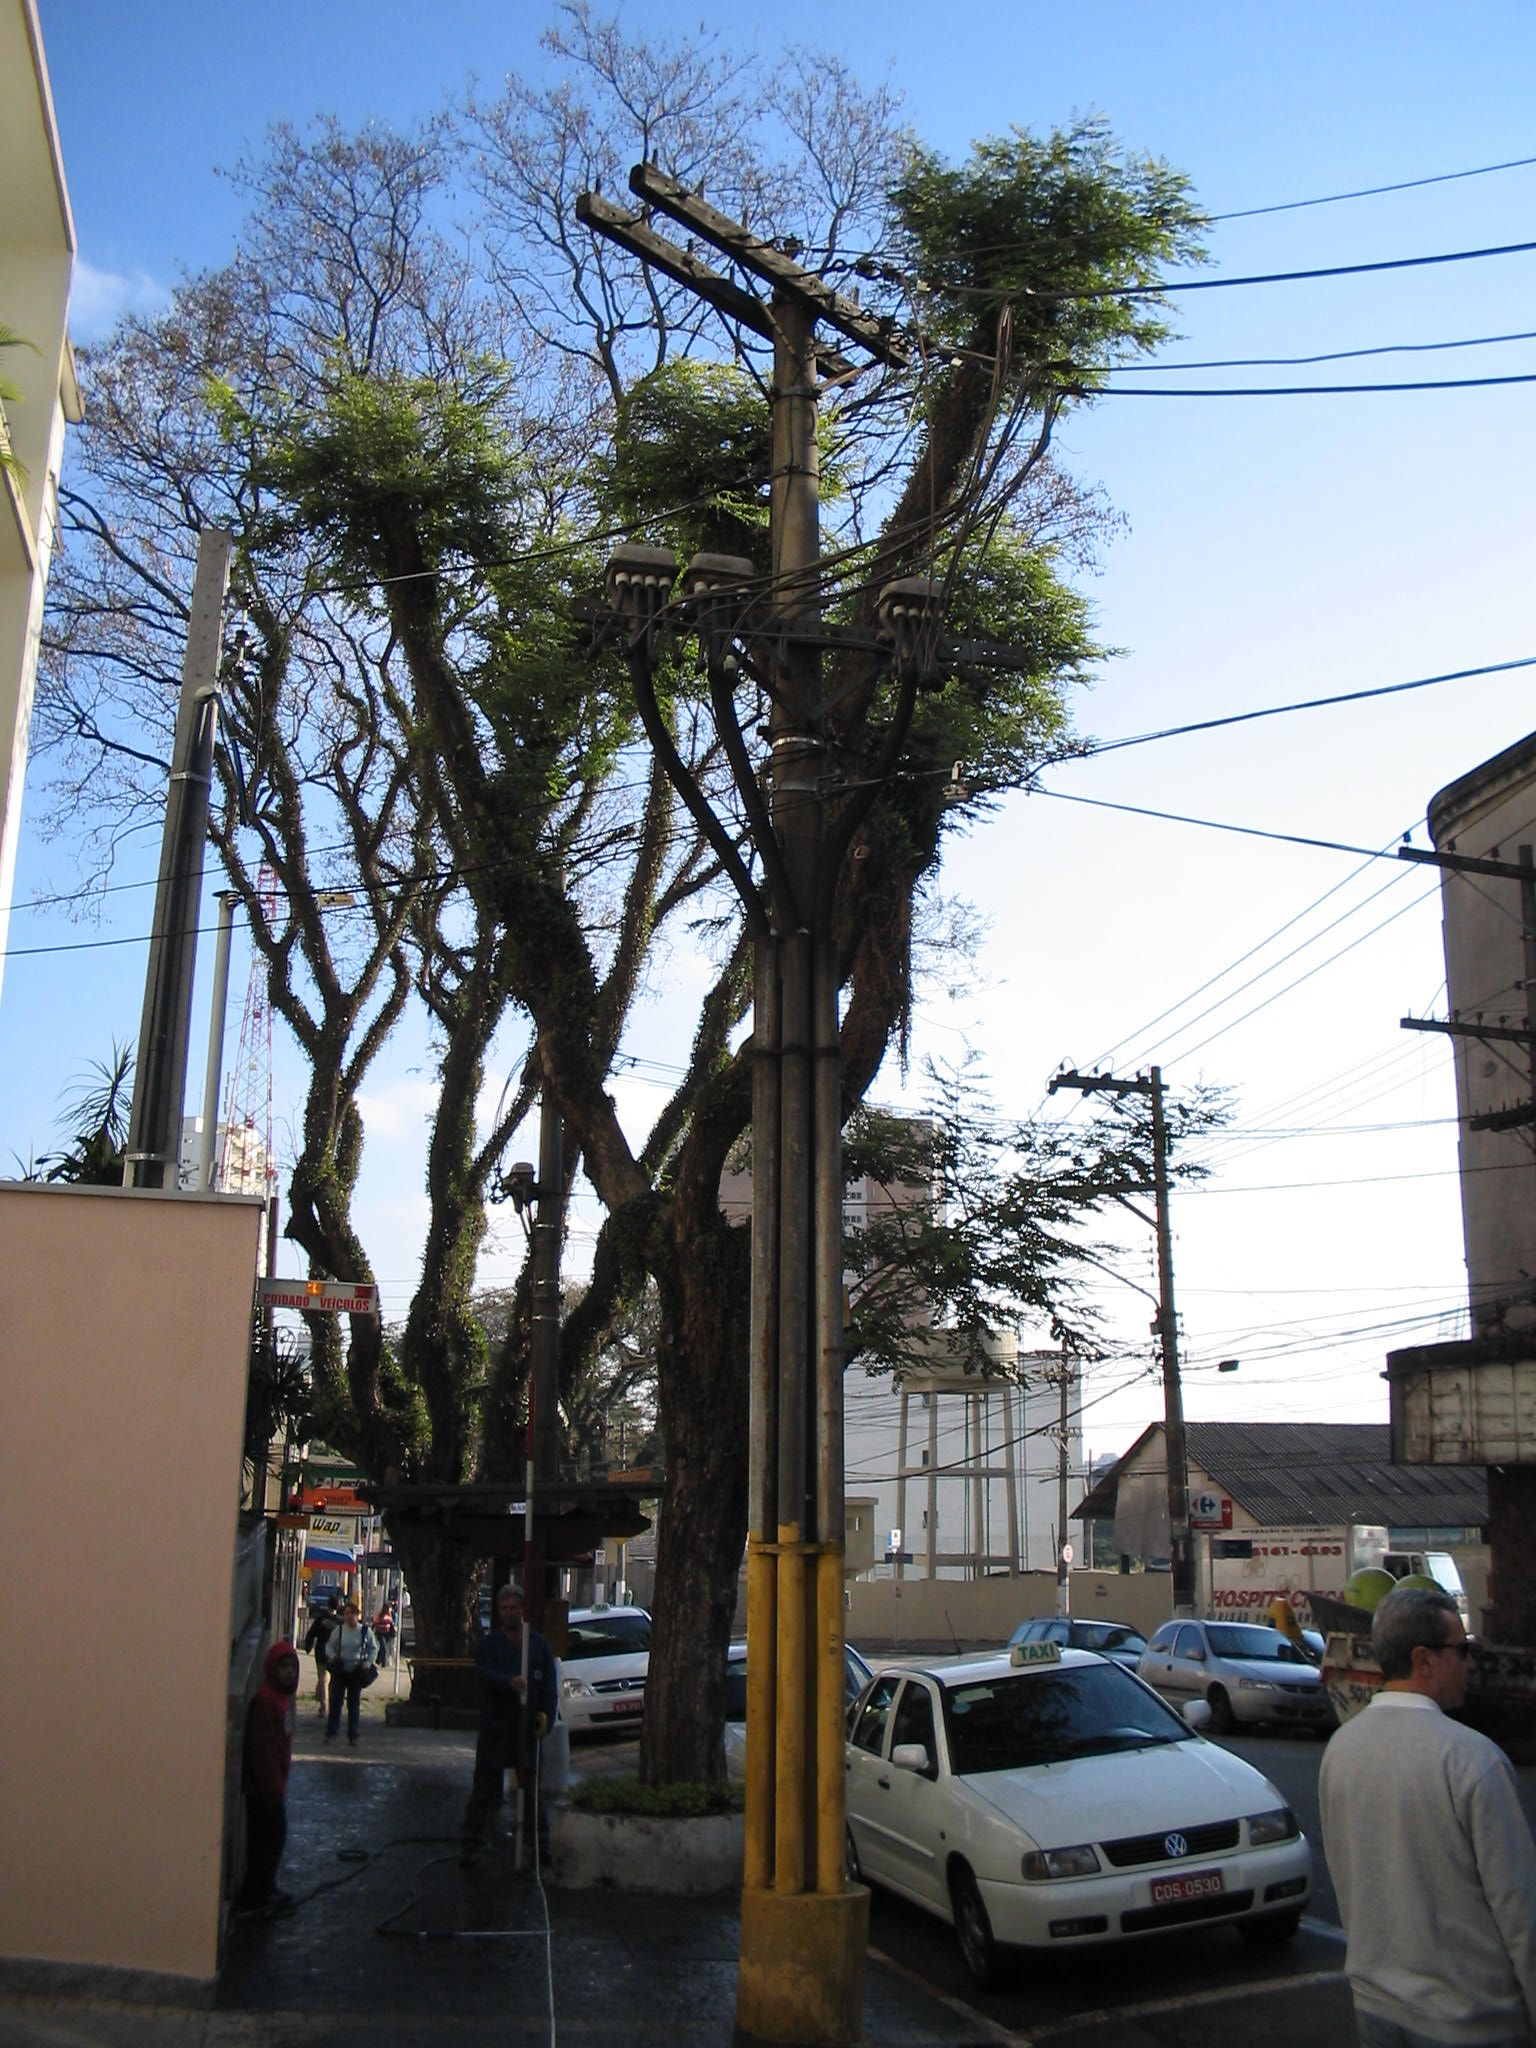stem: (626, 1359, 757, 1817)
stick: (505, 1380, 565, 1867)
tree: (240, 108, 1226, 1787)
